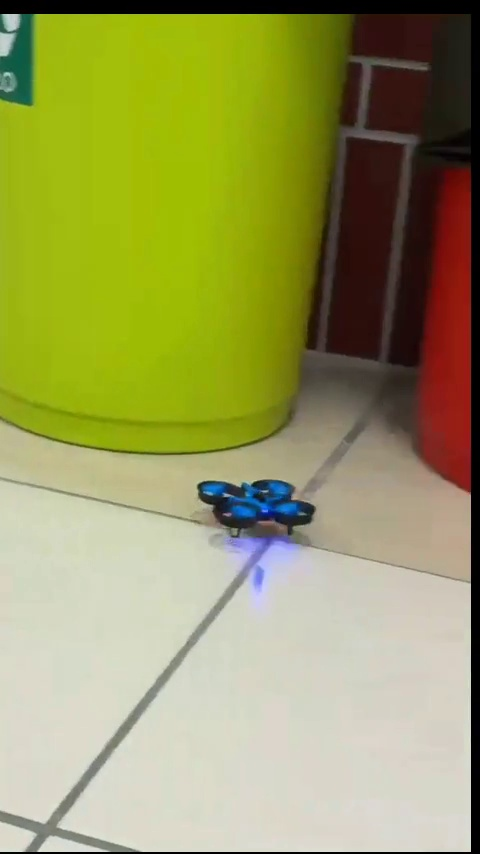drone: (201, 483, 313, 537)
